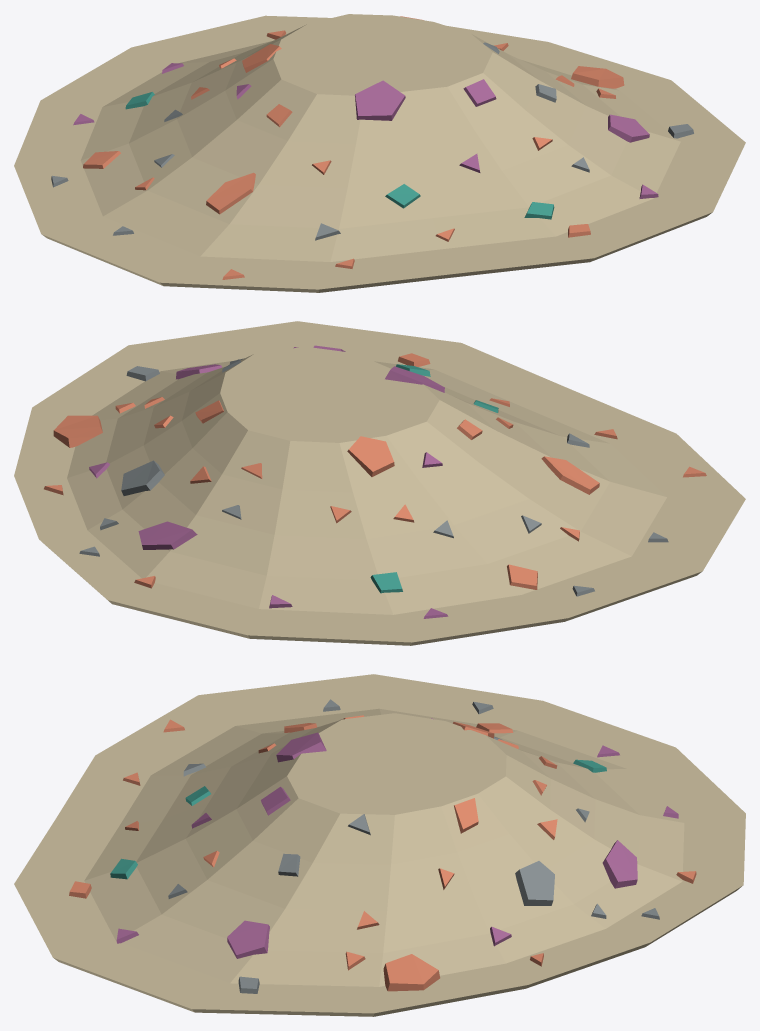
Rendered from pf_reef-rubble-terrain-blob-df5888.glb.
3 views of the same model, one above another, from view 1: azimuth 30°, elevation 25°; view 2: azimuth 150°, elevation 25°; view 3: azimuth 270°, elevation 25° (orthographic). The views are drawn at different scales.
Parts seen in each view (by area): view 1: reef-rubble-blob; view 2: reef-rubble-blob; view 3: reef-rubble-blob.
Part boxes in pixels (left/top/right/bottom): reef-rubble-blob: left=14, top=14, right=745, bottom=292; reef-rubble-blob: left=14, top=321, right=745, bottom=645; reef-rubble-blob: left=14, top=674, right=745, bottom=1016.
Bounding box in the file's own units: 8 × 1.21 × 7.29.
